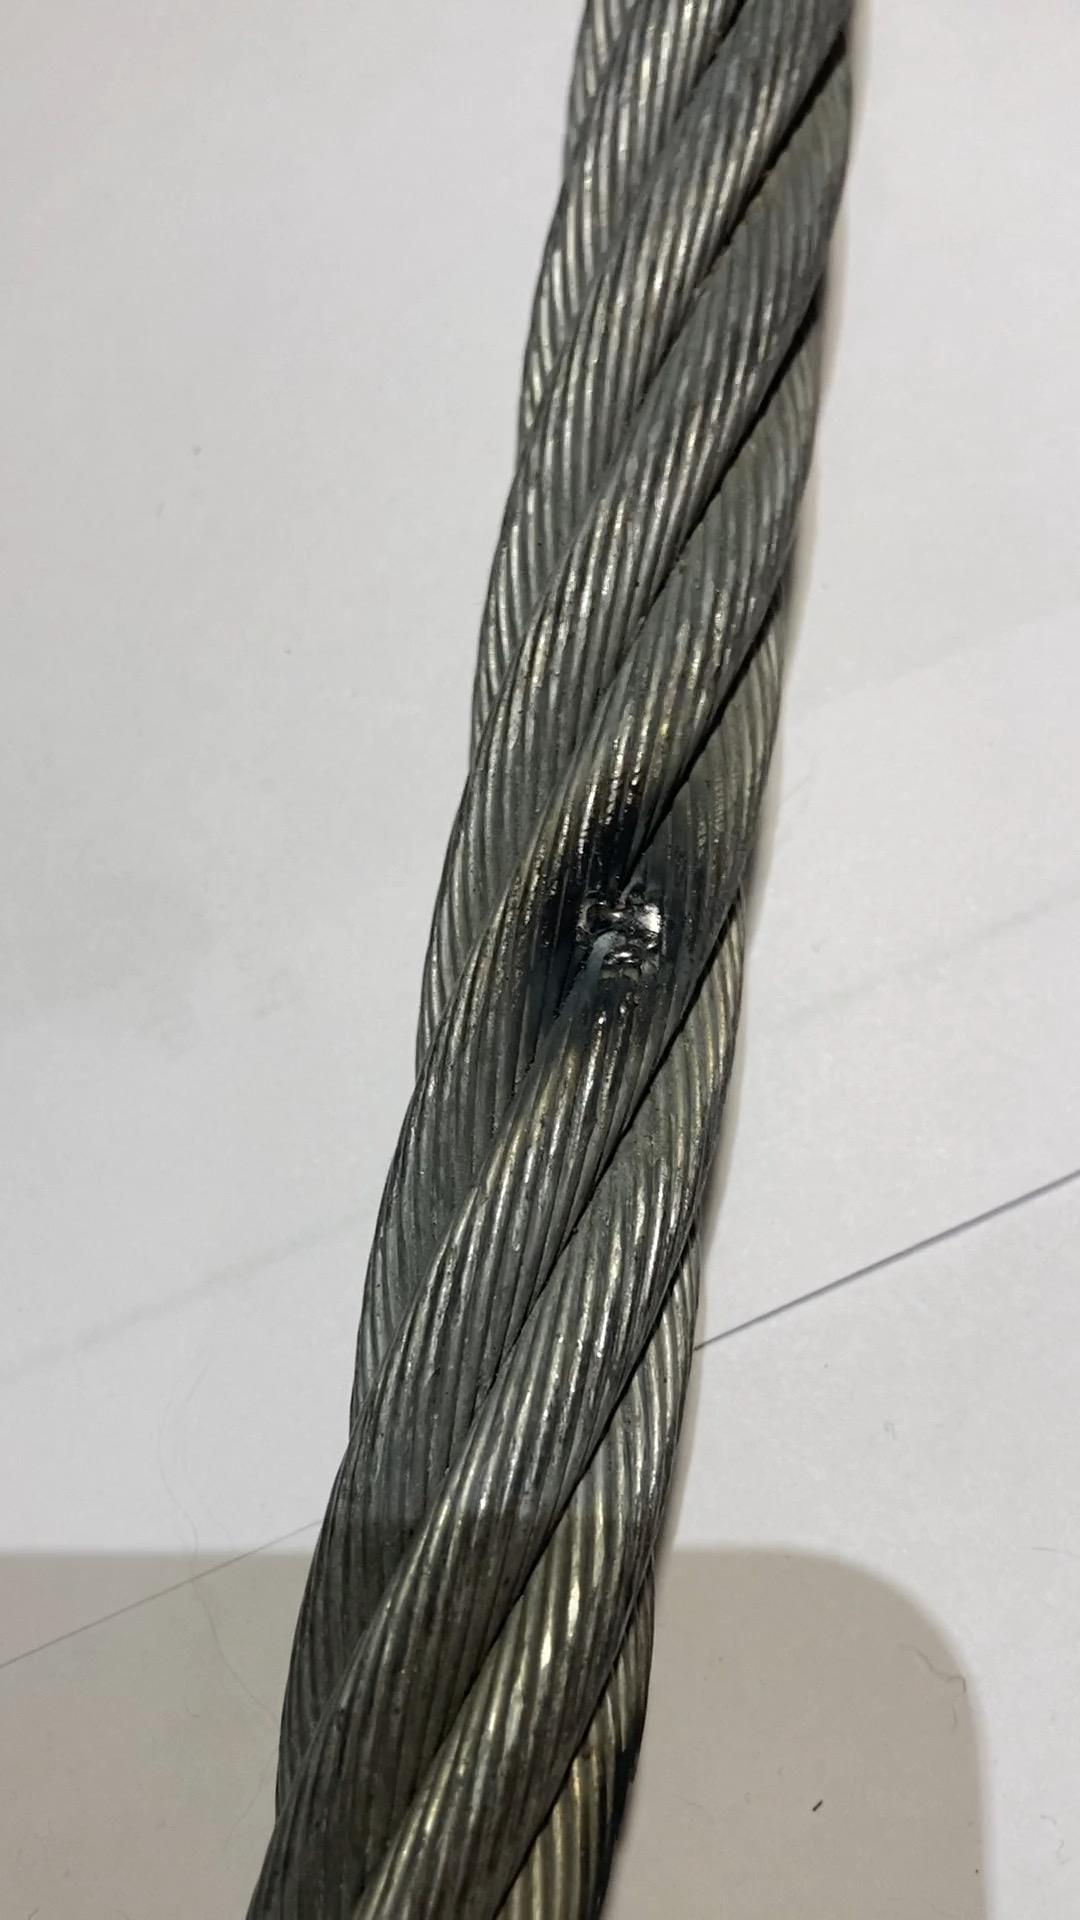thunderbolt: (537, 855, 705, 1030)
